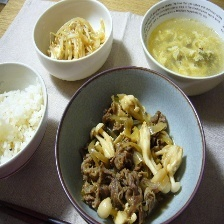sabzi: (73, 90, 189, 224)
